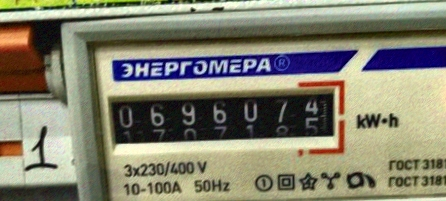0: (115, 103, 134, 128), (241, 97, 257, 123)
4: (303, 94, 317, 116)
5: (303, 116, 318, 136)
6: (146, 101, 164, 127), (210, 98, 226, 125)
7: (272, 97, 288, 123)
9: (178, 100, 195, 127)
screen: (100, 77, 348, 161)
